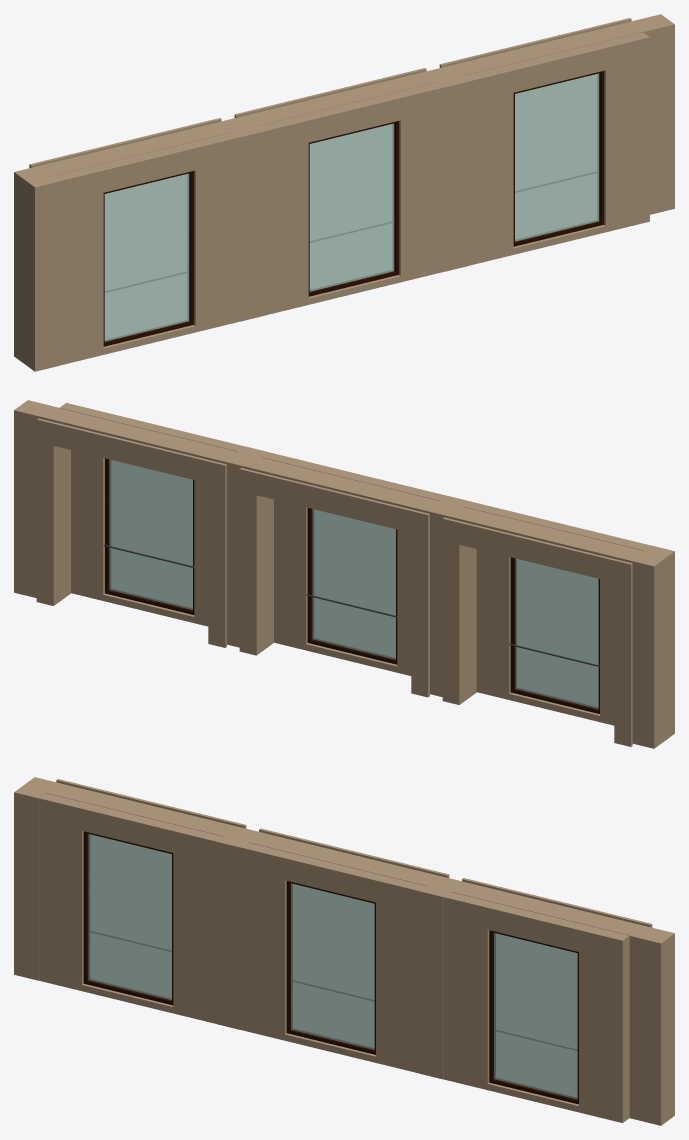
Rendered from wall1.FBX.
3 renders of one model, top to bottom at view 1: azimuth 30°, elevation 25°; view 2: azimuth 150°, elevation 25°; view 3: azimuth 330°, elevation 25°, orthographic.
Parts seen in each view (by area): view 1: wall1; view 2: wall1; view 3: wall1.
Boxes of the visible parts, x1,y1,x2,y2 form: wall1: (14,14,674,371); wall1: (14,400,674,748); wall1: (14,777,674,1125).
Size of the model in its own units: 10650 by 713 by 2900.
